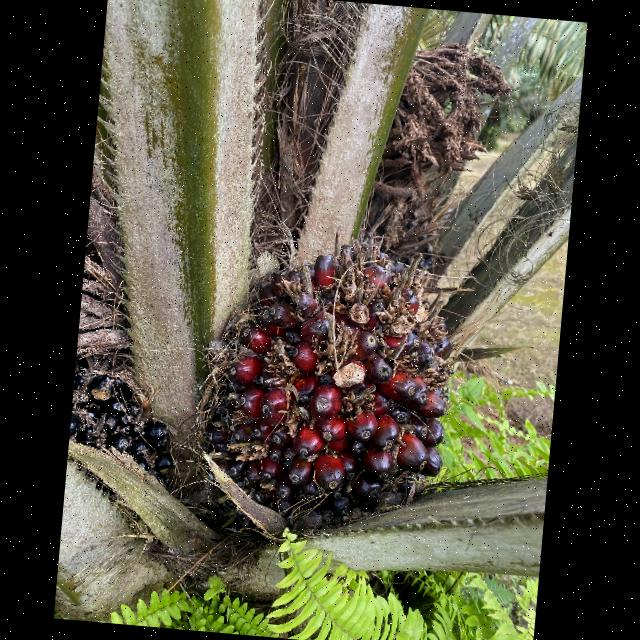Ripe: (204, 249, 446, 527)
